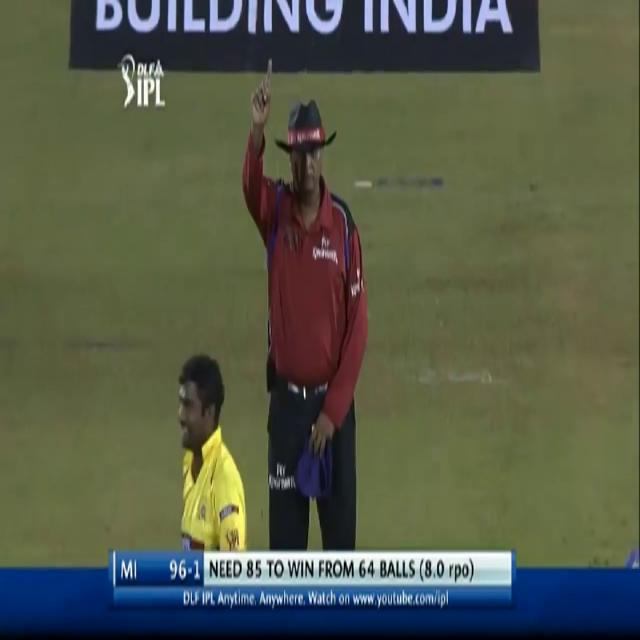Out: (240, 47, 370, 551)
